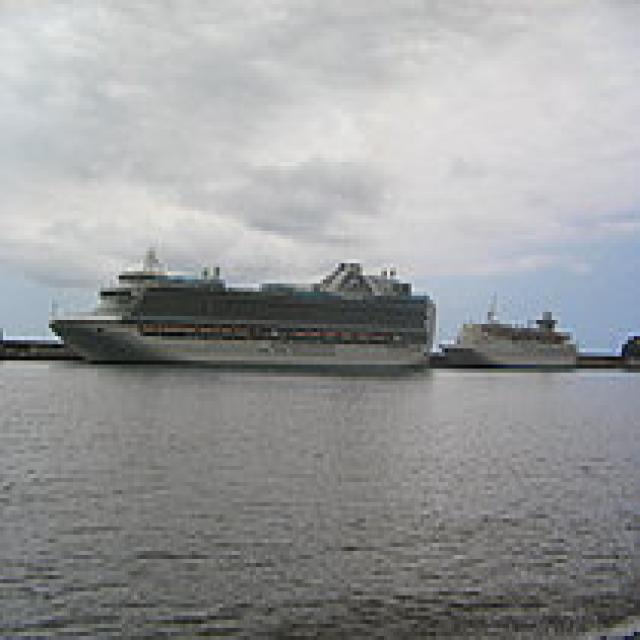Cruise: (42, 239, 436, 369), (436, 280, 579, 372)
